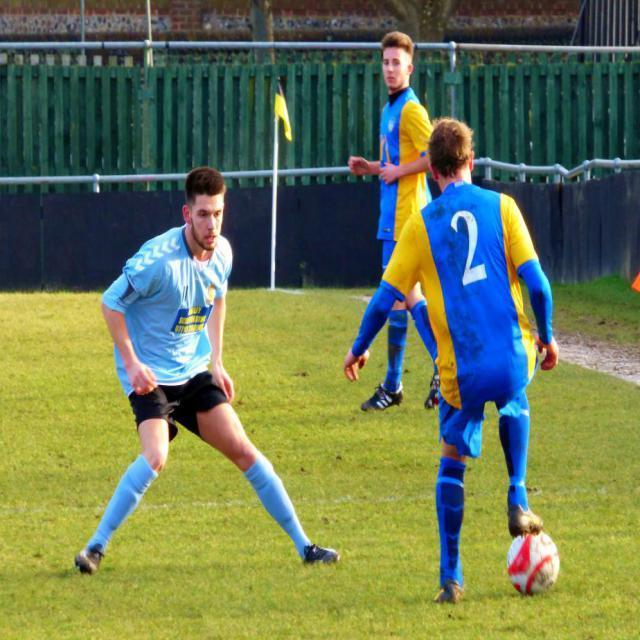football: (488, 514, 582, 604)
